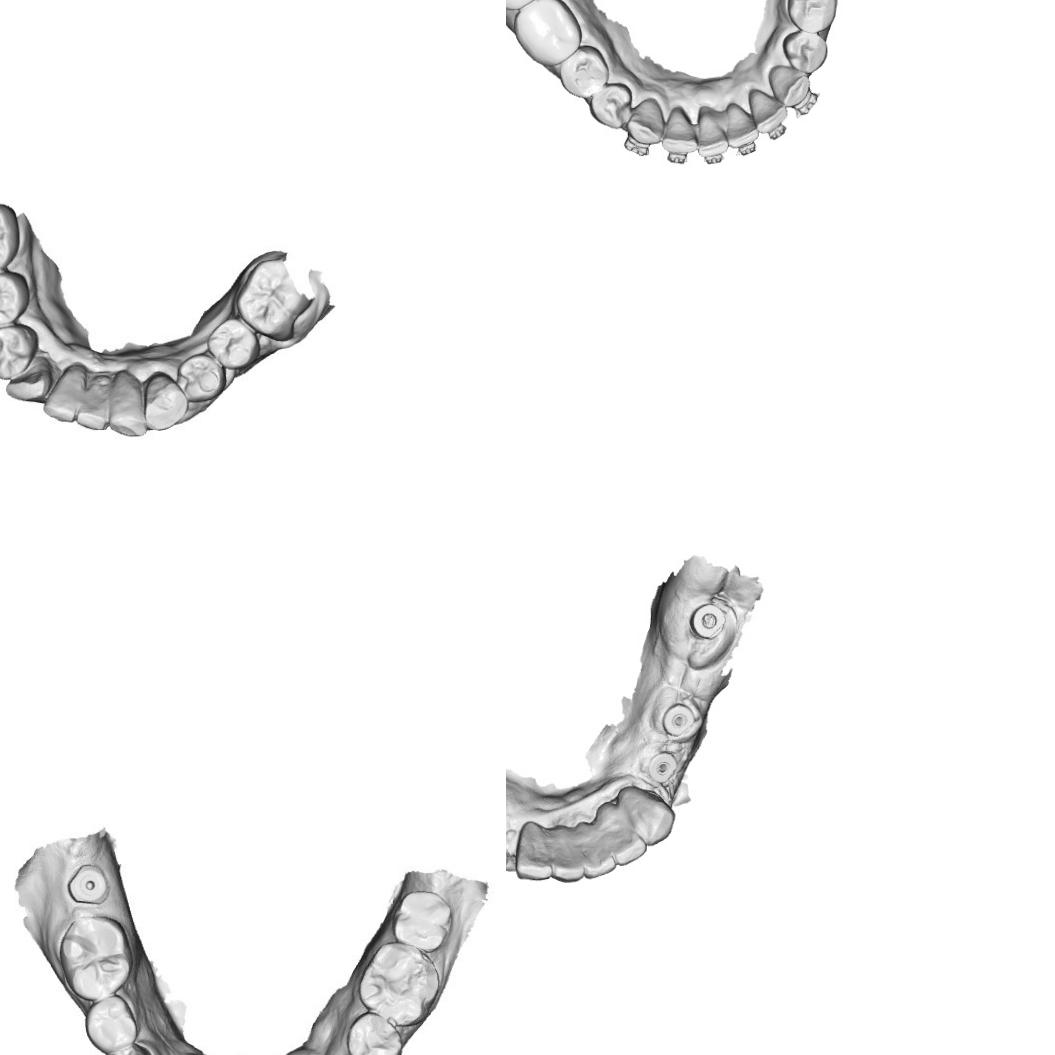canine: (612, 782, 676, 848), (142, 371, 188, 433), (623, 95, 665, 149), (766, 62, 812, 109), (6, 365, 47, 404)
implant: (66, 861, 108, 905), (686, 601, 727, 641), (660, 700, 696, 740), (648, 748, 682, 784)
incisor: (511, 820, 554, 882), (546, 820, 589, 882), (112, 373, 148, 436), (76, 369, 114, 428), (599, 822, 648, 867), (746, 85, 790, 134), (581, 824, 617, 879), (44, 370, 82, 422), (659, 104, 696, 156), (724, 99, 760, 150), (695, 110, 729, 158)
molar: (357, 940, 440, 1028), (58, 914, 134, 1001), (236, 257, 308, 333), (511, 0, 585, 69), (392, 890, 453, 953), (0, 206, 19, 273)
premolar: (83, 993, 138, 1055), (558, 43, 611, 101), (345, 1010, 403, 1055), (210, 322, 262, 370), (587, 81, 635, 130), (780, 28, 830, 74), (0, 327, 40, 381), (177, 354, 223, 399), (783, 0, 839, 33), (0, 272, 32, 328), (99, 1043, 155, 1055)
